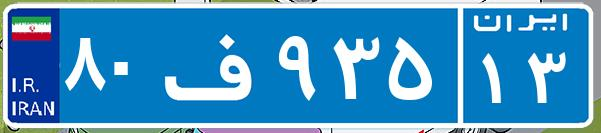0: (110, 28, 158, 105)
1: (475, 38, 525, 113)
3: (330, 28, 385, 110), (525, 38, 570, 115)
5: (385, 28, 445, 110)
8: (57, 26, 110, 107)
9: (273, 28, 330, 110)
ف: (158, 15, 273, 115)
